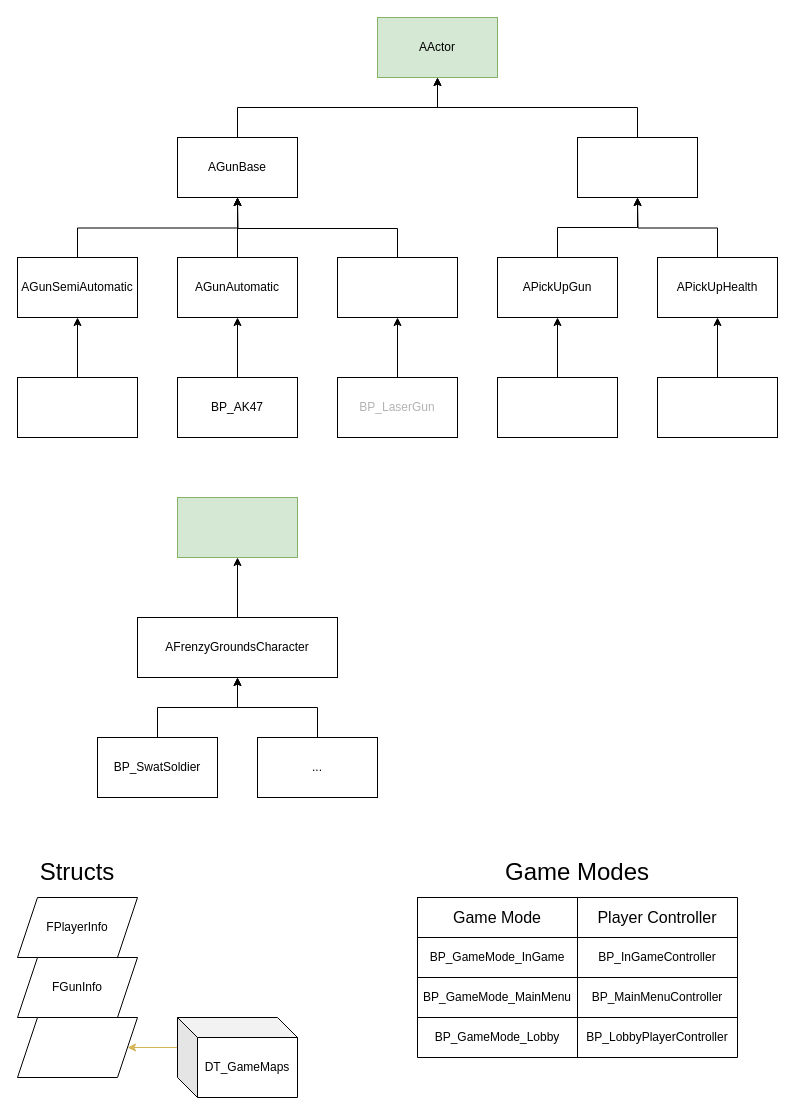
The diagram is 795 pixels wide and 1115 high, and some of its shapes have lost their labels. The shapes that lost their labels are listed below. From the top down, each one's centre as x and y in pixels, then its label:
At (x=637, y=167): "APickUpItem".
At (x=397, y=287): "AGunCharged".
At (x=77, y=407): "BP_Beretta_M9".
At (x=557, y=407): "... Per Gun ...".
At (x=717, y=407): "BP_PickUpMedkit".
At (x=237, y=527): "ACharacter".
At (x=77, y=1047): "FMapInfo".
